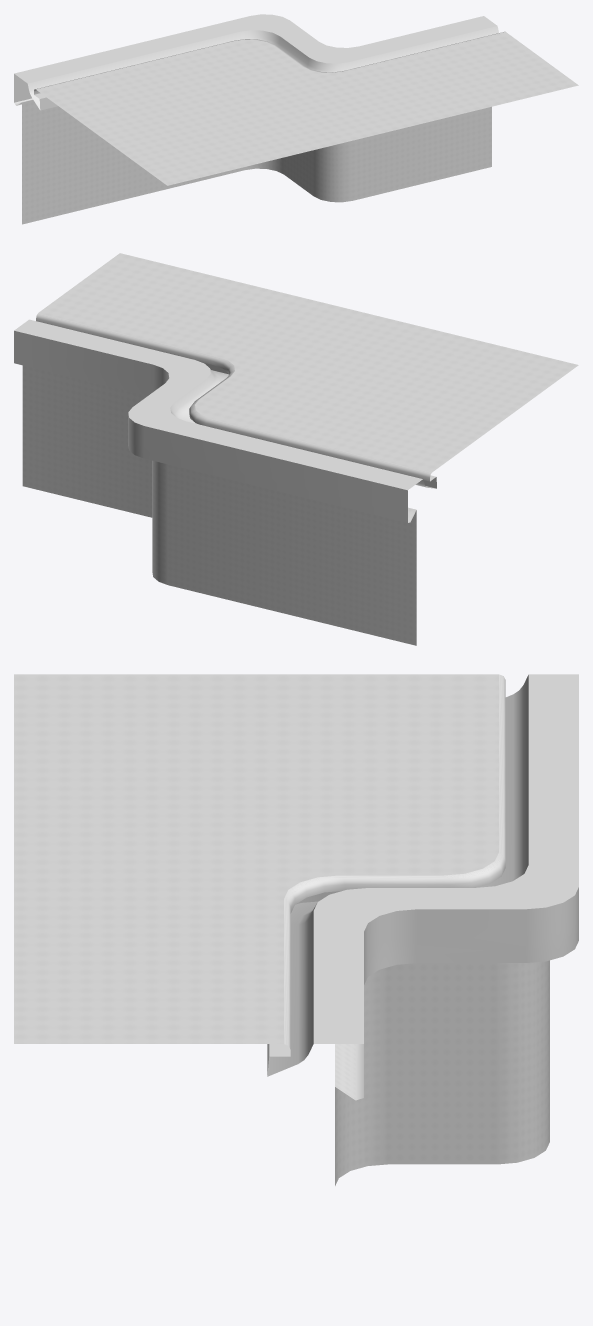
File: SM_Grond_04.fbx
The picture shows the model from 3 angles, top to bottom: view 1: azimuth 30°, elevation 25°; view 2: azimuth 150°, elevation 25°; view 3: azimuth 270°, elevation 25°; orthographic projection. The views are drawn at different scales.
Visible parts, largest first — view 1: SM_Grond_04; view 2: SM_Grond_04; view 3: SM_Grond_04.
Part boxes in pixels (x1,y1,x2,y2): SM_Grond_04: [14, 14, 578, 224]; SM_Grond_04: [14, 253, 578, 645]; SM_Grond_04: [14, 674, 578, 1185].
Bounding box in the file's own units: 250 × 84.32 × 161.
